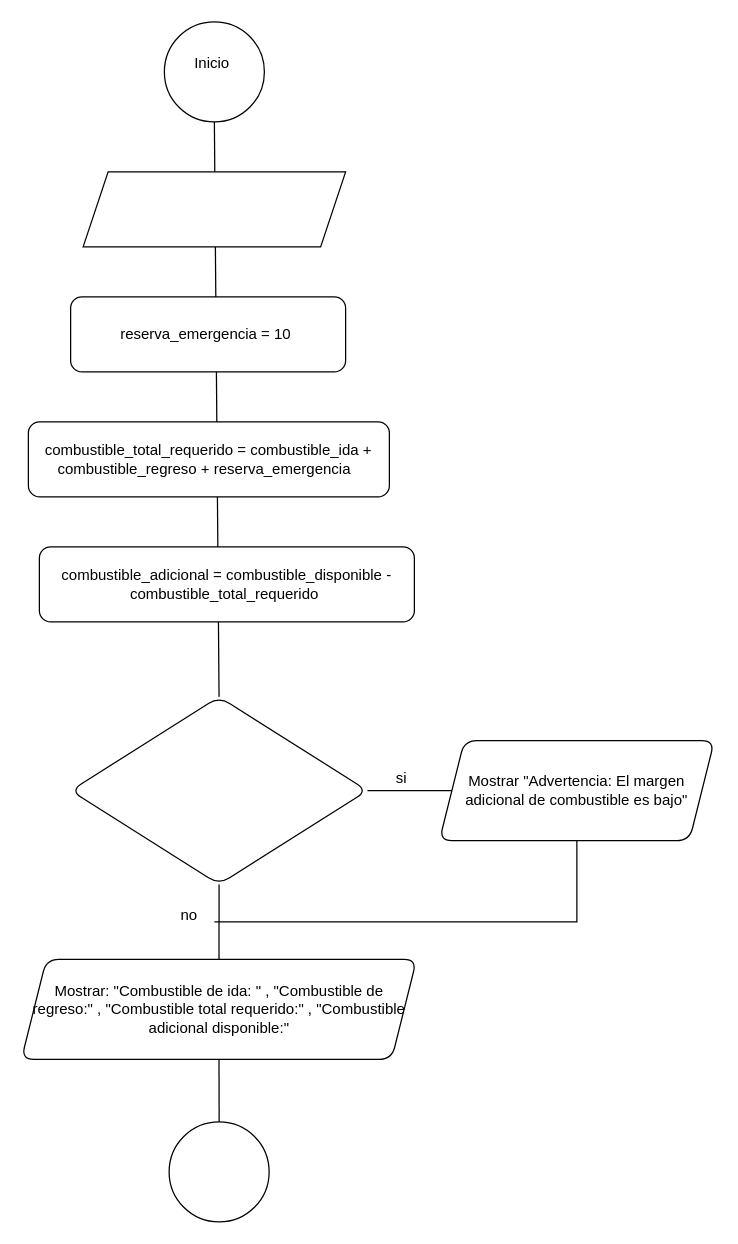
The diagram is 738 pixels wide and 1244 high, and some of its shapes have lost their labels. Here are the shapes that lost their labels. From the top down, the box of each, then its label:
(82, 171, 346, 247): Leer combustible_disponible, combustible_ida, combustible_regreso
(69, 696, 368, 884): Combustible_adicional < 10
(168, 1121, 269, 1222): Fin
